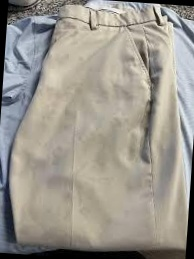oil: (105, 124, 144, 163)
